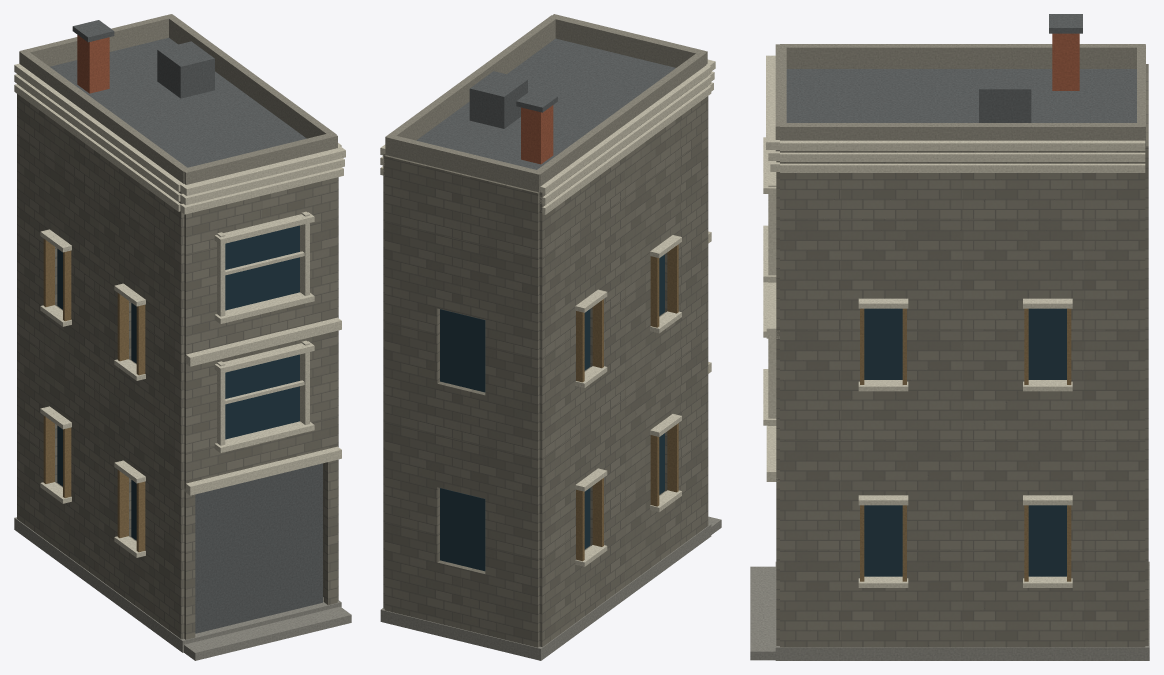
Rendered from VICT32_lod2.glb.
3 renders of one model, left to right at view 1: azimuth 30°, elevation 25°; view 2: azimuth 150°, elevation 25°; view 3: azimuth 270°, elevation 25°, orthographic. The views are drawn at different scales.
Visible parts, largest first — view 1: VICT32_LOD2; view 2: VICT32_LOD2; view 3: VICT32_LOD2.
Boxes of the visible parts, x1,y1,x2,y2 form: VICT32_LOD2: (14,14,351,660); VICT32_LOD2: (380,14,721,660); VICT32_LOD2: (750,14,1149,660).
Size of the model in its own units: 3.71 by 10.45 by 6.57.
Materials: 9 (7 with a texture image).
